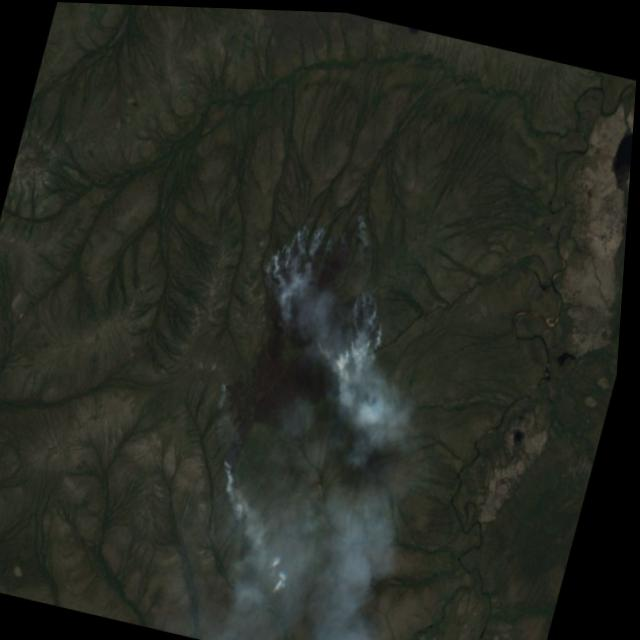fire: (197, 183, 417, 508)
